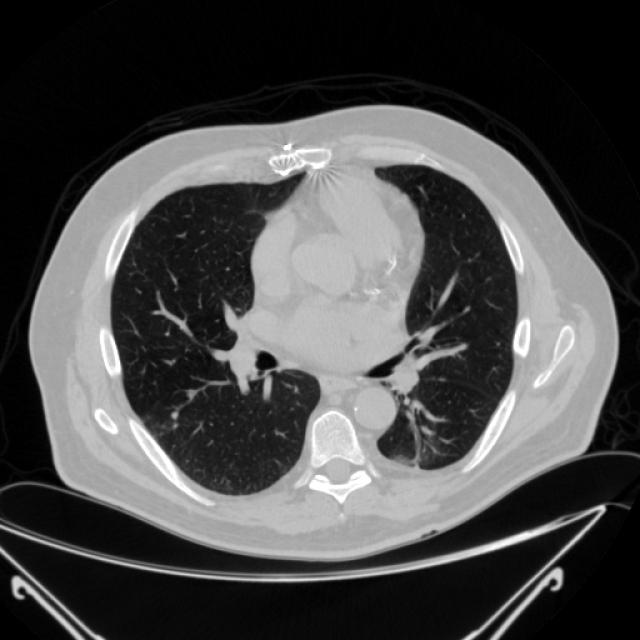nodule: (164, 404, 184, 424)
